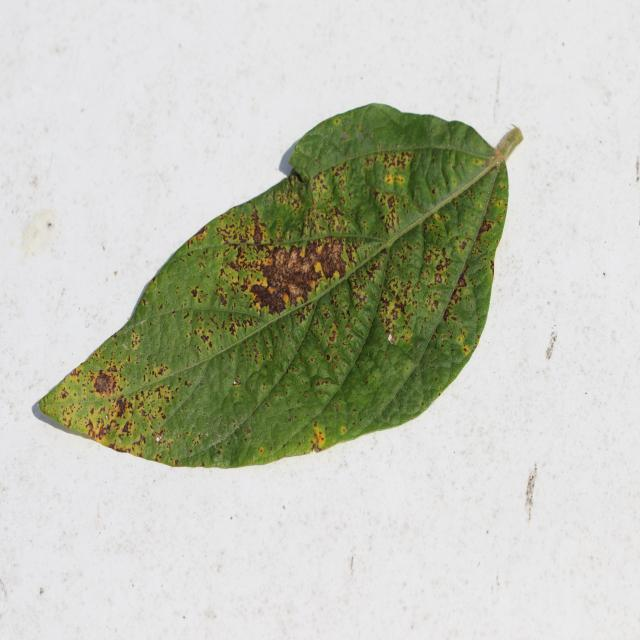Bacterial_Blight: (304, 238, 347, 275), (374, 189, 409, 234), (247, 282, 285, 315), (380, 295, 407, 334), (86, 412, 115, 443), (244, 207, 268, 244), (309, 170, 332, 206), (92, 371, 117, 397), (356, 211, 379, 237), (65, 368, 84, 394), (271, 247, 291, 271), (148, 361, 171, 381), (424, 292, 443, 316), (311, 423, 326, 452), (434, 256, 452, 273), (477, 219, 494, 236), (396, 151, 413, 168), (448, 288, 463, 307), (153, 385, 168, 403), (215, 286, 228, 304), (194, 226, 208, 242), (315, 379, 335, 390), (388, 278, 400, 296), (130, 331, 141, 349), (252, 347, 261, 364), (327, 328, 337, 343), (457, 331, 467, 346), (200, 333, 211, 346), (457, 275, 467, 288), (153, 430, 163, 443), (458, 239, 468, 251), (190, 287, 199, 299), (60, 389, 69, 400), (385, 172, 393, 184), (395, 174, 404, 184), (139, 434, 147, 445), (192, 437, 200, 447), (323, 309, 330, 319), (490, 259, 495, 272), (184, 380, 192, 388), (497, 214, 504, 223), (333, 402, 339, 412), (357, 131, 363, 141), (340, 426, 347, 434), (496, 199, 503, 207), (258, 447, 265, 455), (325, 353, 331, 362), (141, 298, 147, 307), (472, 341, 478, 350), (341, 132, 348, 139), (246, 426, 252, 434), (111, 332, 117, 340), (216, 447, 222, 455), (334, 118, 340, 125), (333, 354, 339, 361), (431, 187, 436, 195), (371, 132, 376, 139), (313, 421, 318, 428)
Soybean: (32, 104, 524, 471)
